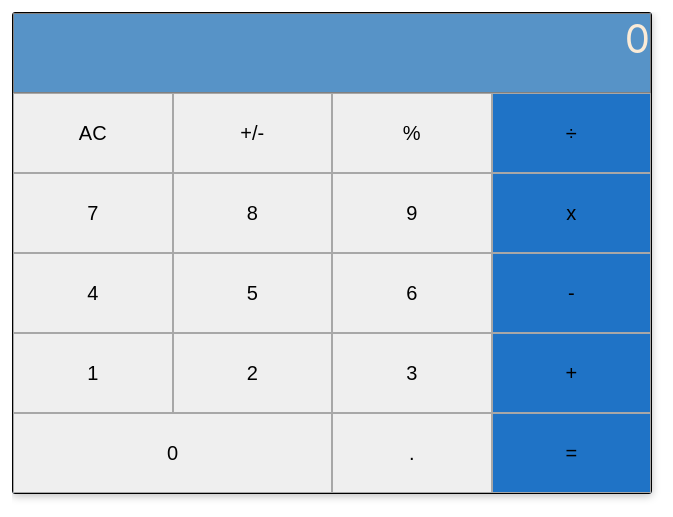
Test: Testing Calculator component with snapshot › Testing to see if the Calculator component can accurately subtract two or more numbers from each other.
Click the button "1" at [93, 373], box [13, 333, 172, 413]
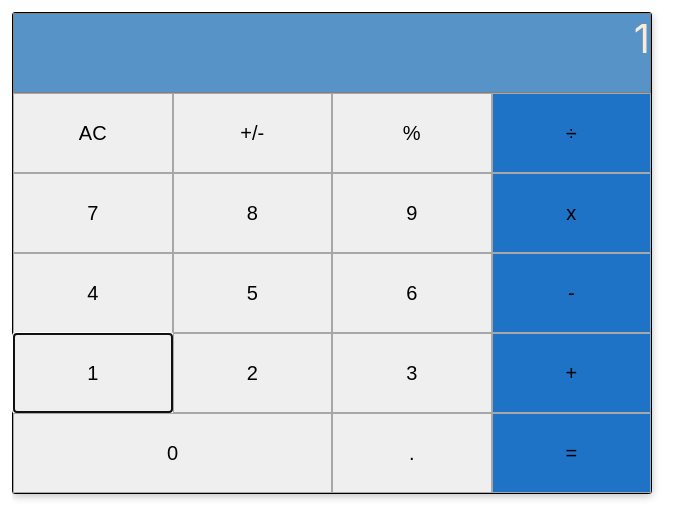
Click the button "1" at [93, 373], box [13, 333, 172, 413]
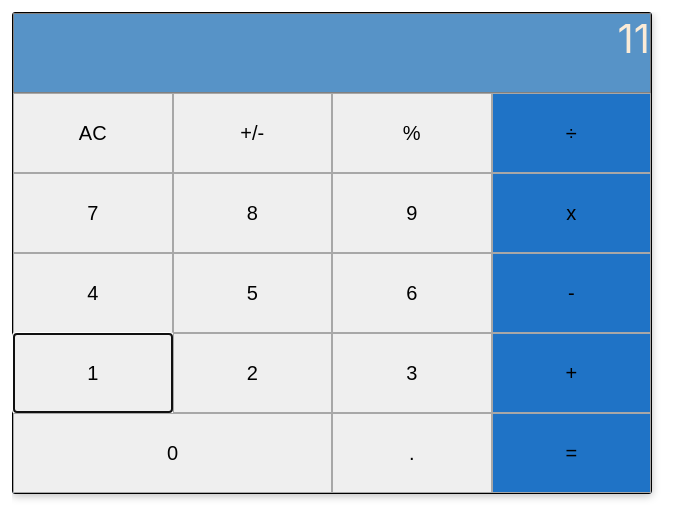
Click the button "-" at [571, 293], box [492, 253, 651, 333]
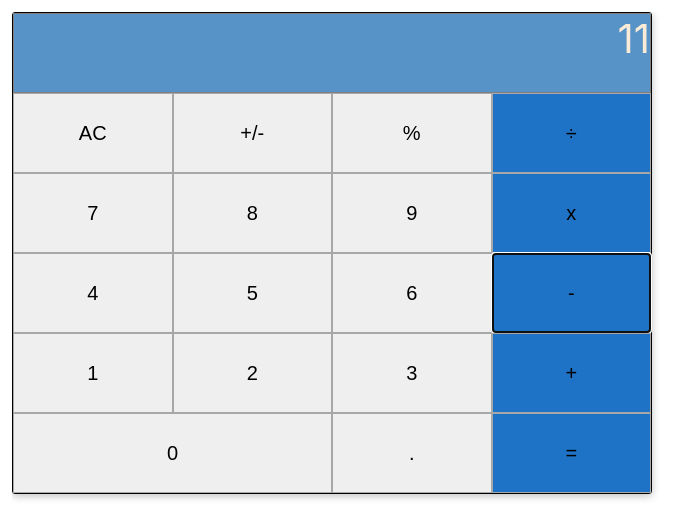
Click the button "6" at [412, 293], box [332, 253, 492, 333]
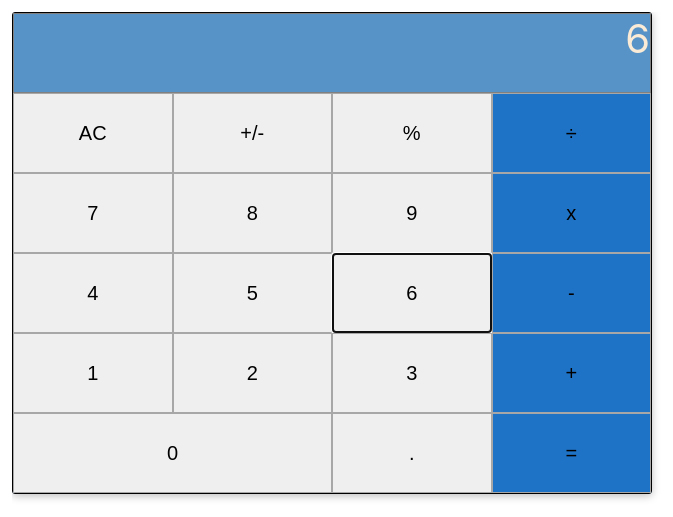
Click the button "=" at [571, 453], box [492, 413, 651, 493]
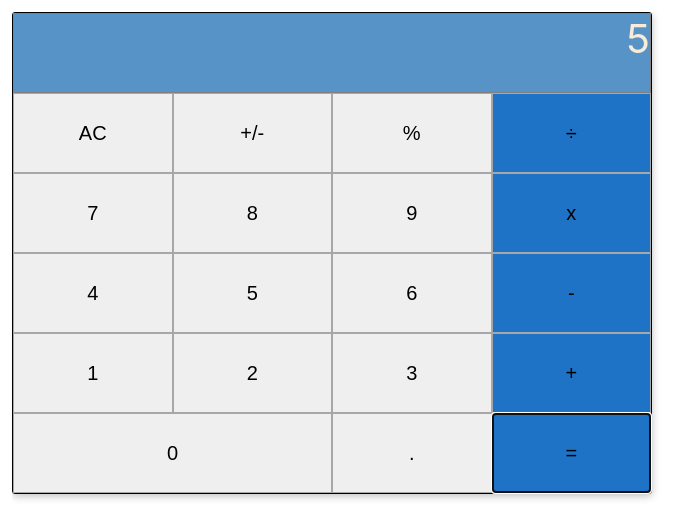
Expected: the text with test id "total_value" reads "5", [626, 14, 650, 63]
